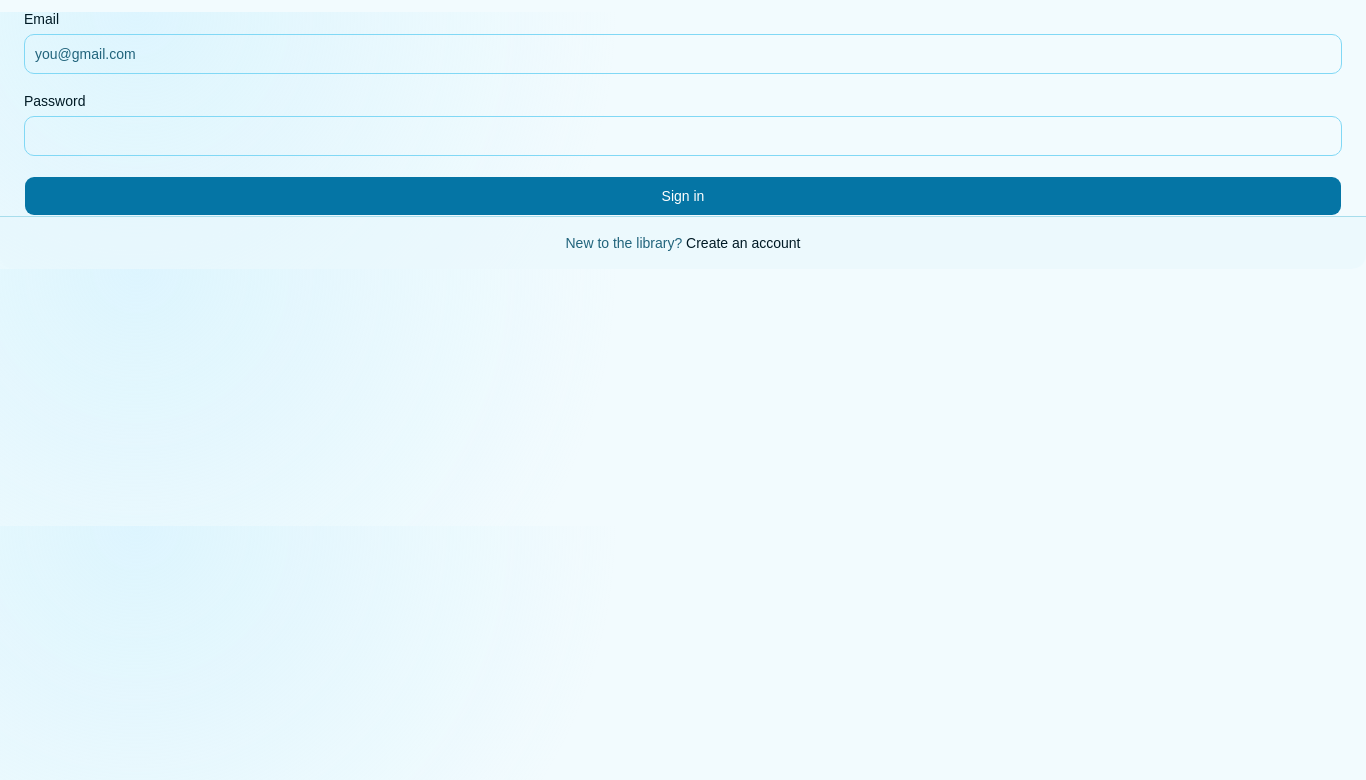
Test case: AuthForm › Login mode › validates required password field
The width and height of the screenshot is (1366, 780).
Type "test@example.com" into the field labelled "Email". click: (683, 54)
box: left=24, top=34, right=1342, bottom=74
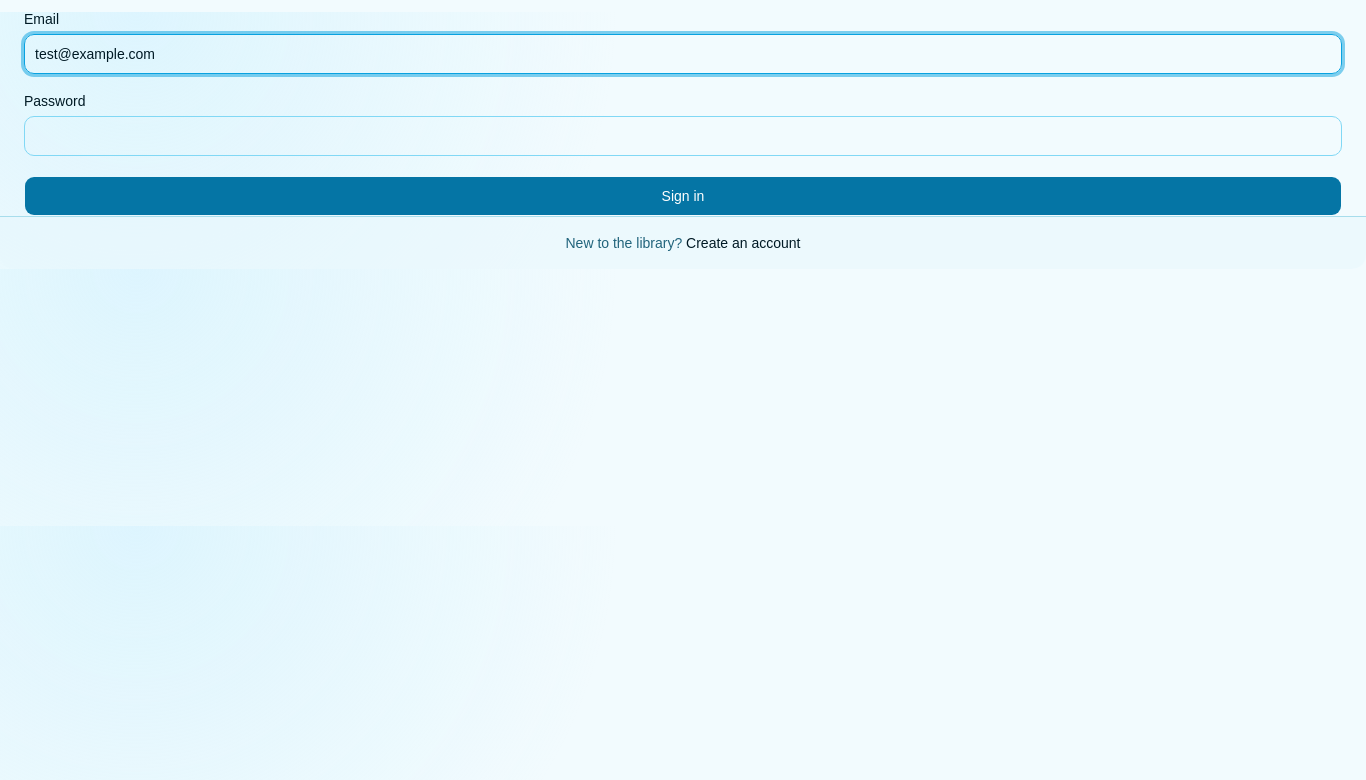
Click the button "Sign in". click: (683, 196)
box: left=24, top=176, right=1342, bottom=216
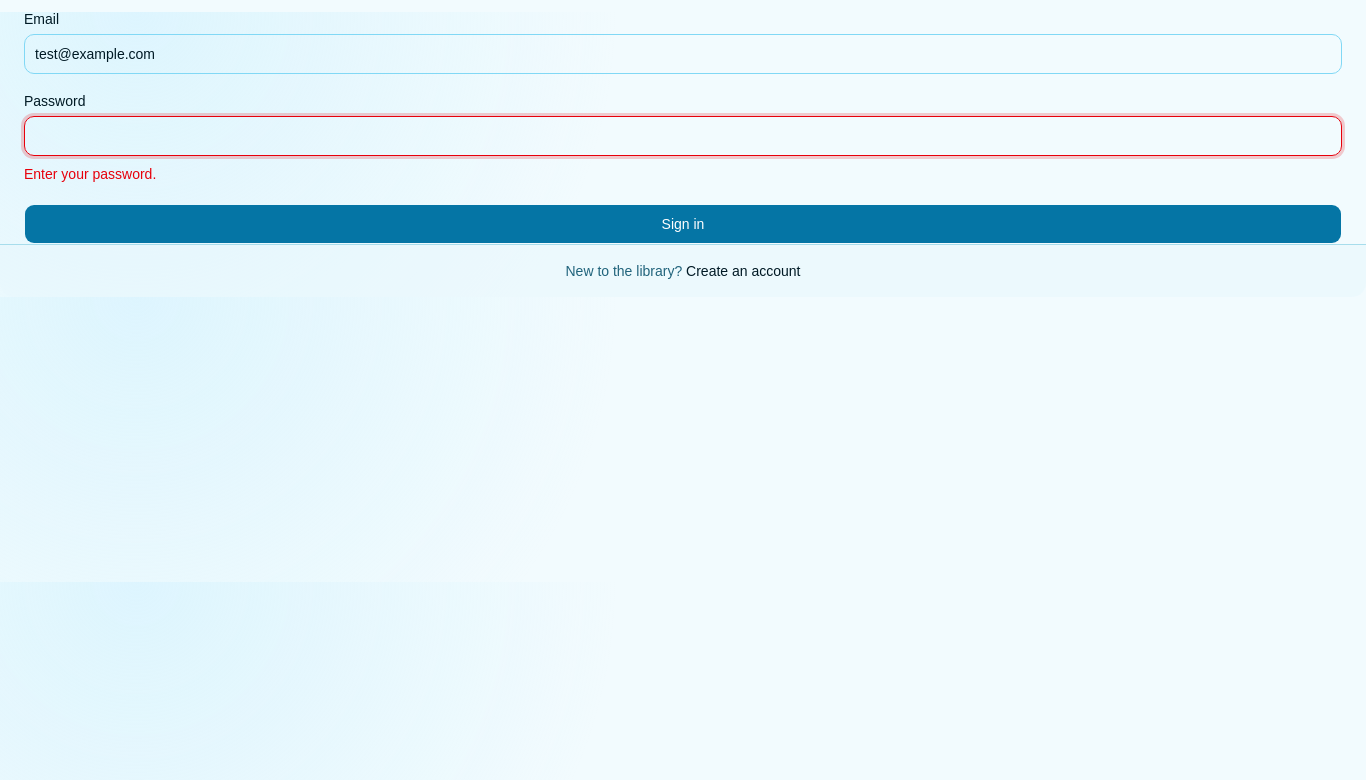
Expected: the text "Enter your password." is shown, left=24, top=166, right=156, bottom=182
